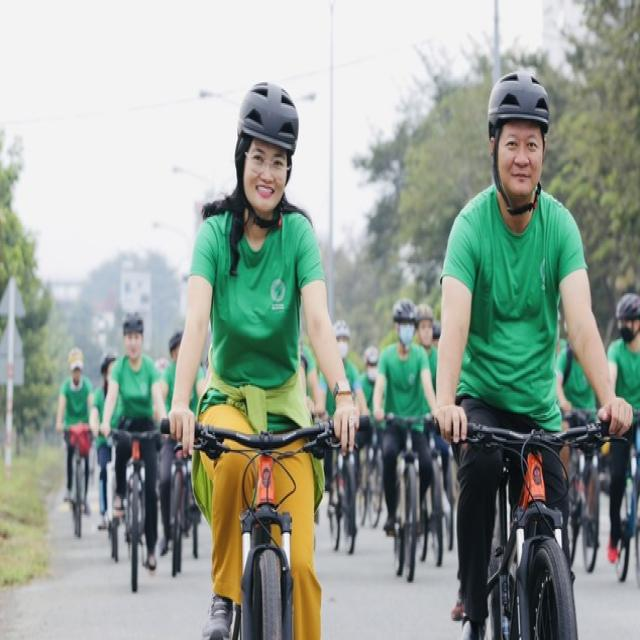helmet: (236, 79, 300, 157), (486, 69, 551, 133)
